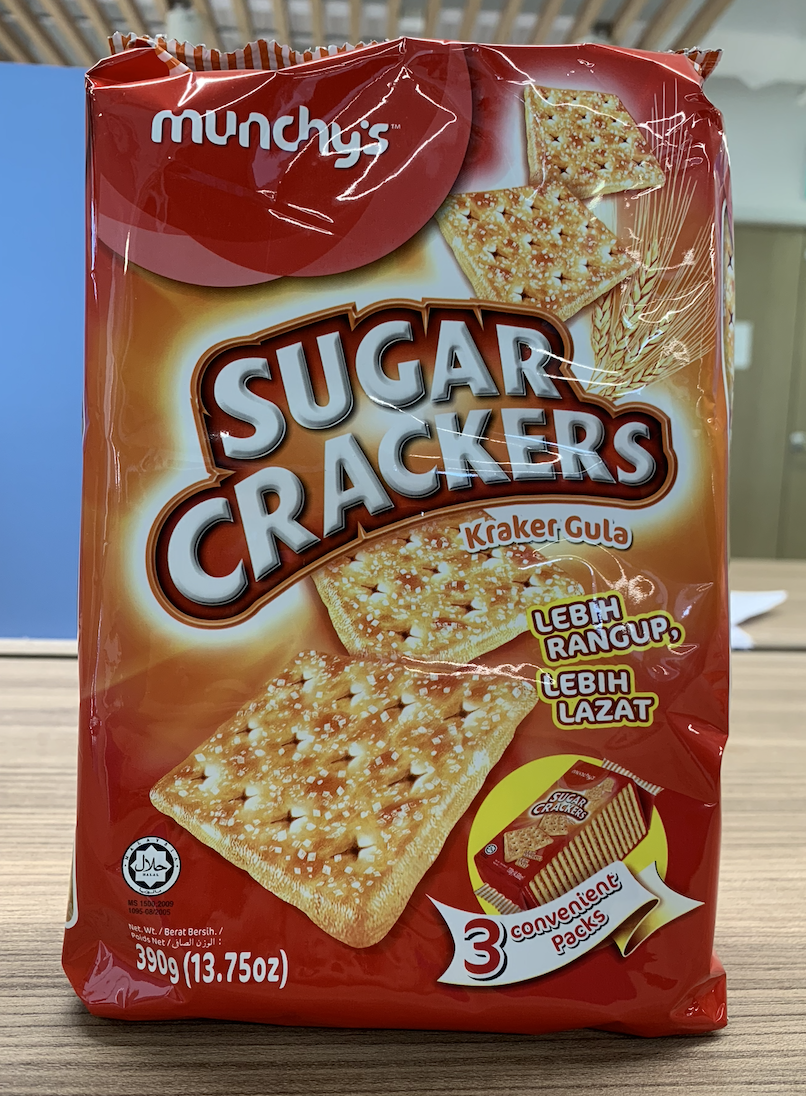crackers_450g: (121, 84, 704, 1011)
